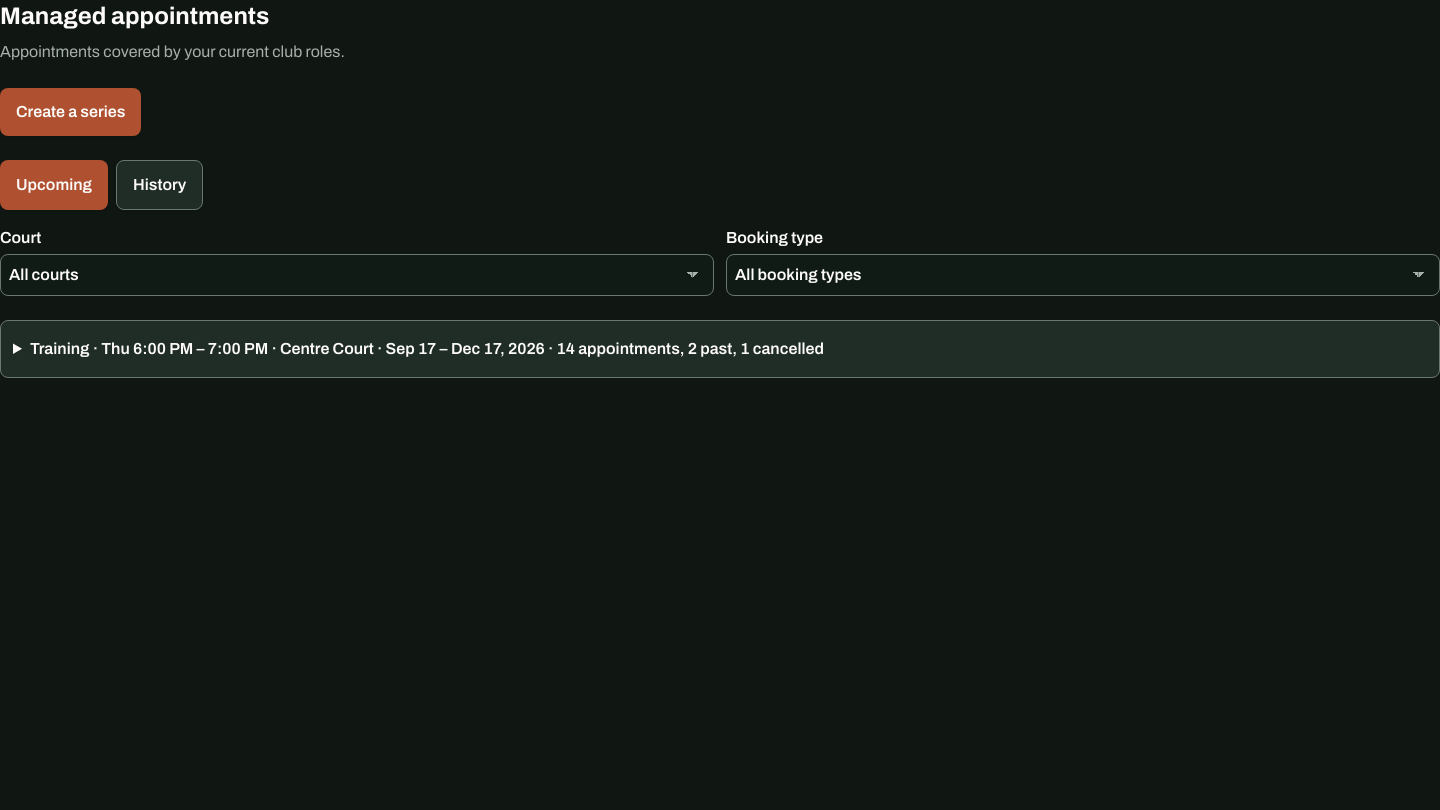
it: AdminManagedAppointmentsView › given a managed appointment, when details open, then internal data is loaded on demand
Click the heading with test id "managed-series-summary" at {"x": 427, "y": 348}, box left=30, top=340, right=824, bottom=357
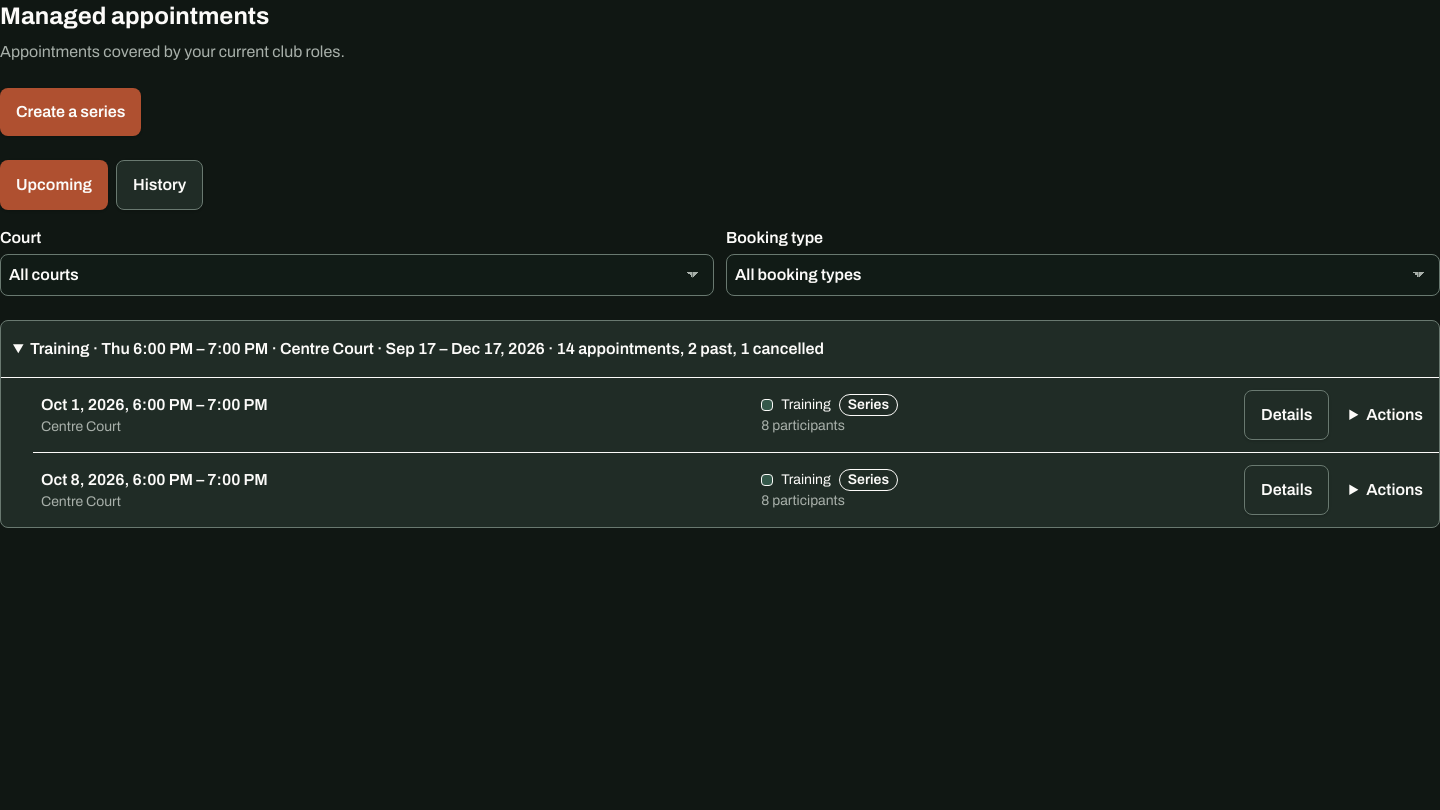
Click the button with test id "managed-details" at {"x": 1287, "y": 415}, box left=1244, top=390, right=1329, bottom=440
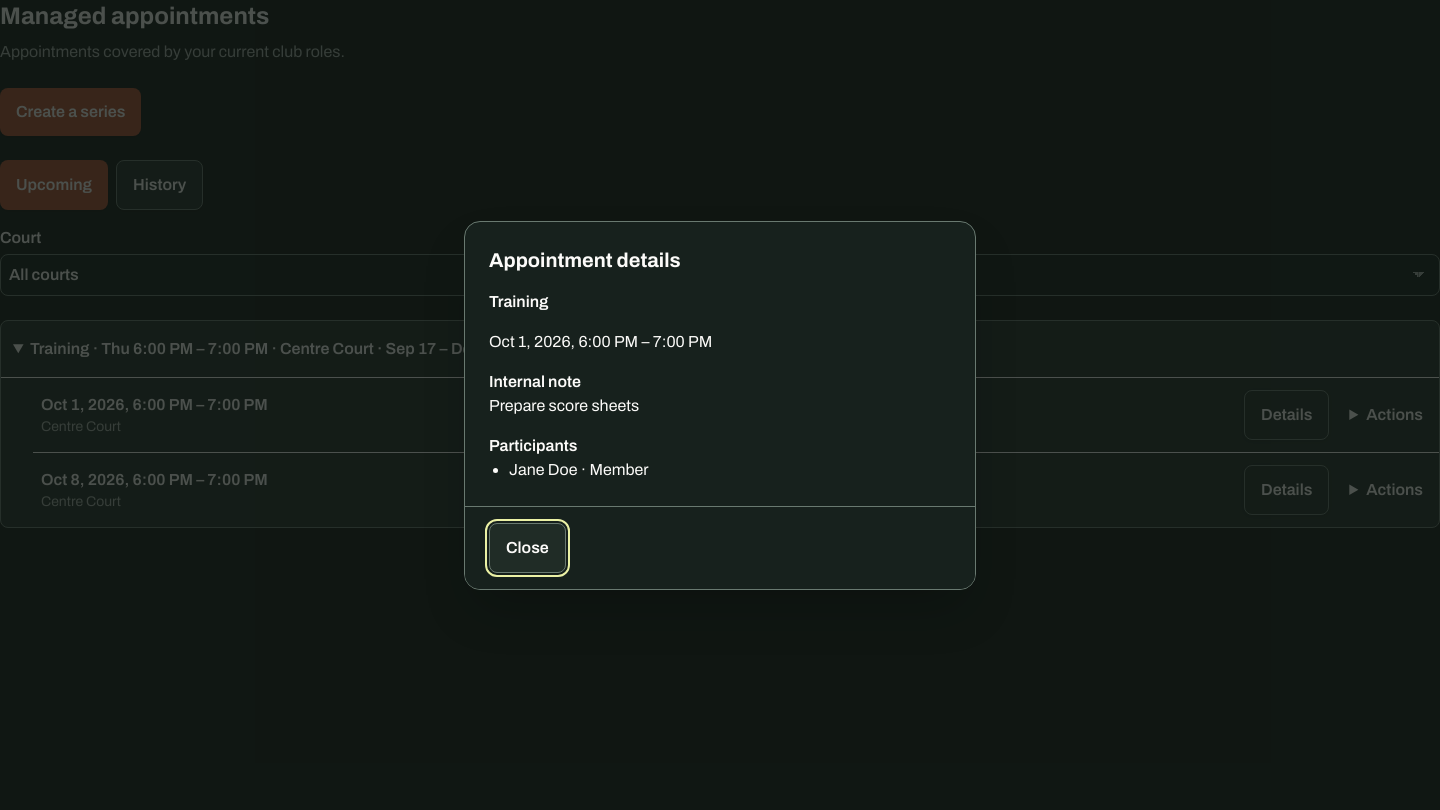
expect the element with test id "managed-note" shows "Prepare score sheets": met, box left=489, top=396, right=639, bottom=414
expect the element with test id "managed-participants" shows "Jane Doe · Member": met, box left=489, top=436, right=649, bottom=478
